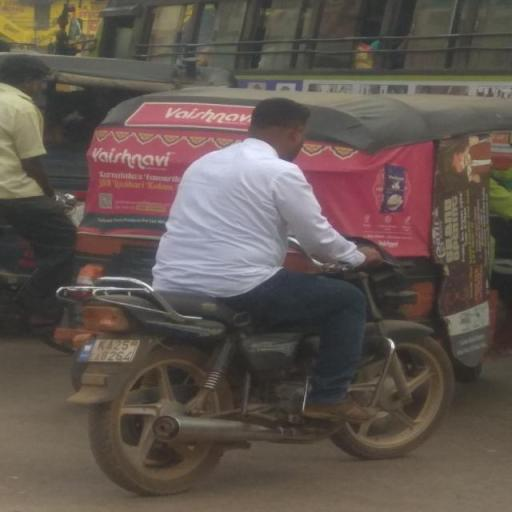bike: (44, 90, 464, 500)
numberplate: (79, 334, 144, 368)
withouthelmet: (248, 96, 306, 146)
